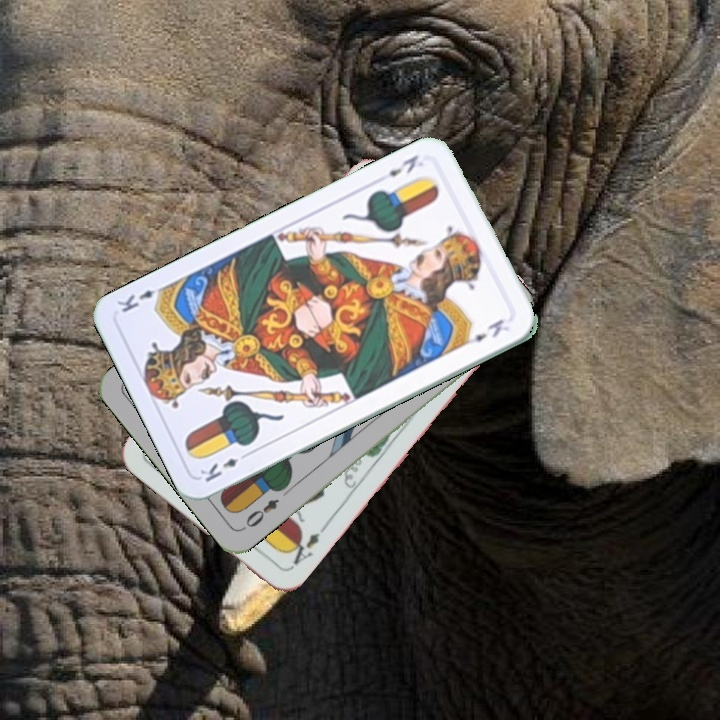EA: (283, 522, 329, 571)
EK: (196, 447, 253, 485), (384, 150, 422, 180)
EO: (238, 494, 282, 533)
